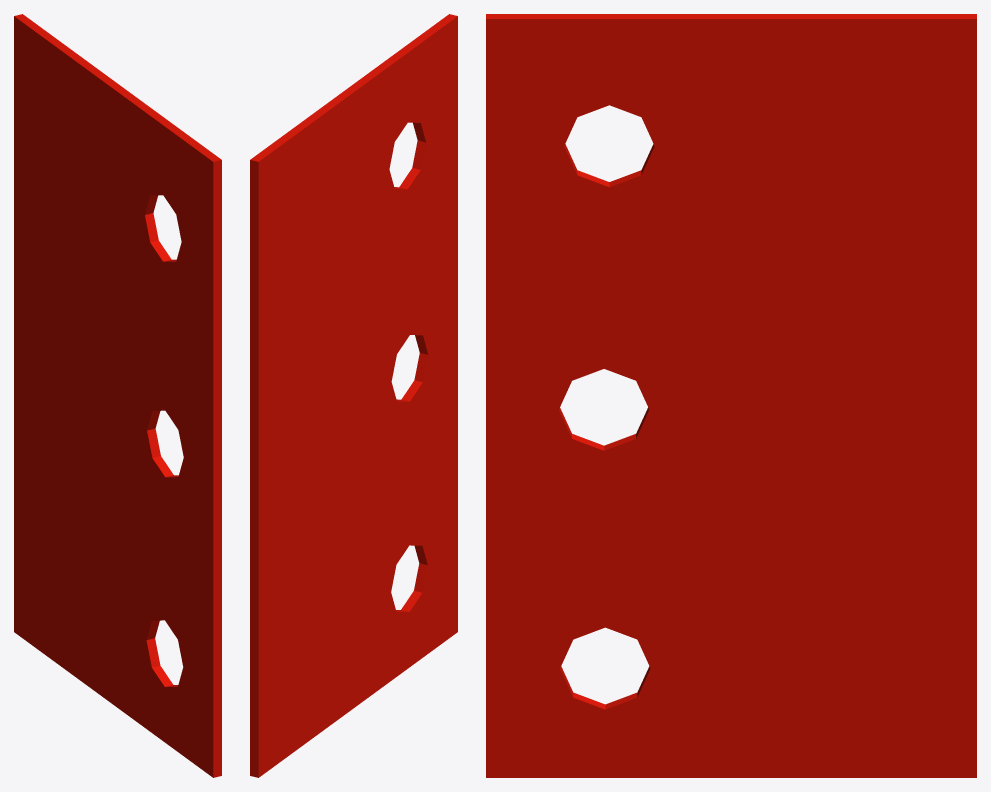
Rendered from board08.fbx.
3 renders of one model, left to right at view 1: azimuth 30°, elevation 25°; view 2: azimuth 150°, elevation 25°; view 3: azimuth 270°, elevation 25°, orthographic. The views are drawn at different scales.
Parts seen in each view (by area): view 1: Plane.015; view 2: Plane.015; view 3: Plane.015.
Boxes of the visible parts, bbox=[...] form: Plane.015: bbox=[14, 14, 221, 777]; Plane.015: bbox=[250, 14, 457, 777]; Plane.015: bbox=[486, 14, 976, 777].
Size of the model in its own units: 9 by 617 by 362.
